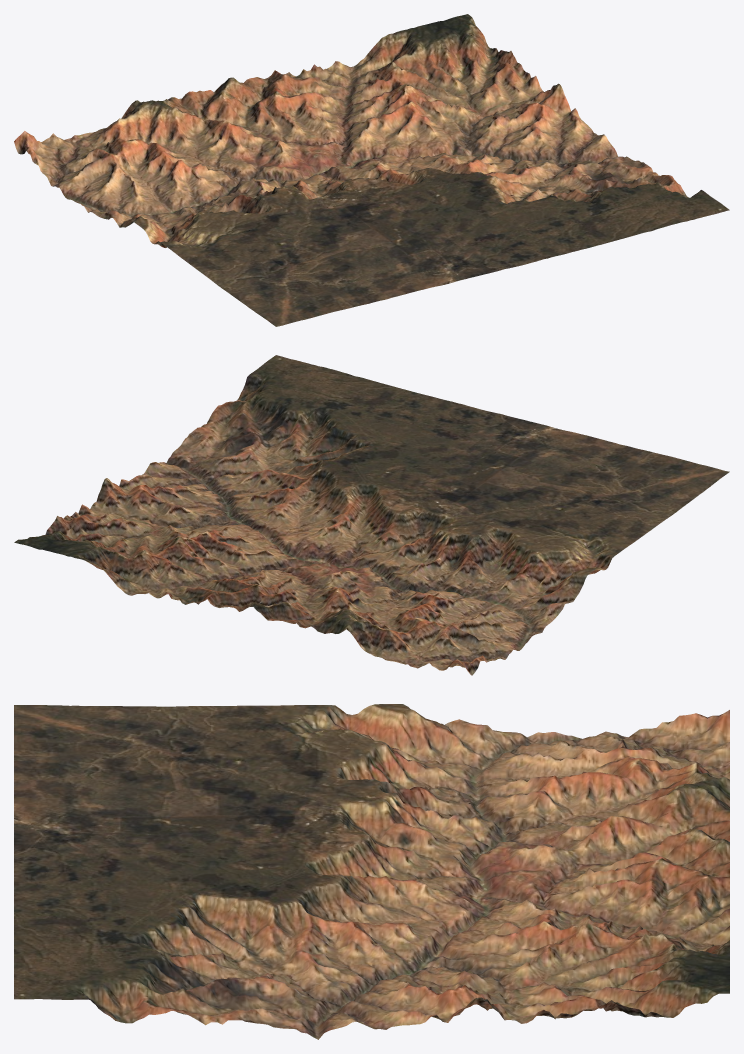
Rendered from nature_grand_canyon_dem_s2.glb.
The picture shows the model from 3 angles, top to bottom: view 1: azimuth 30°, elevation 25°; view 2: azimuth 150°, elevation 25°; view 3: azimuth 270°, elevation 25°; orthographic projection. The views are drawn at different scales.
Parts seen in each view (by area): view 1: R99_DEM_GLB_nature_grand_canyon; view 2: R99_DEM_GLB_nature_grand_canyon; view 3: R99_DEM_GLB_nature_grand_canyon.
Part boxes in pixels (x1=…): R99_DEM_GLB_nature_grand_canyon: x1=14, y1=14, x2=729, y2=326; R99_DEM_GLB_nature_grand_canyon: x1=14, y1=355, x2=729, y2=675; R99_DEM_GLB_nature_grand_canyon: x1=14, y1=704, x2=729, y2=1039.
Bounding box in the file's own units: 10.8 × 0.8111 × 10.8.
1 material, 1 textured.
